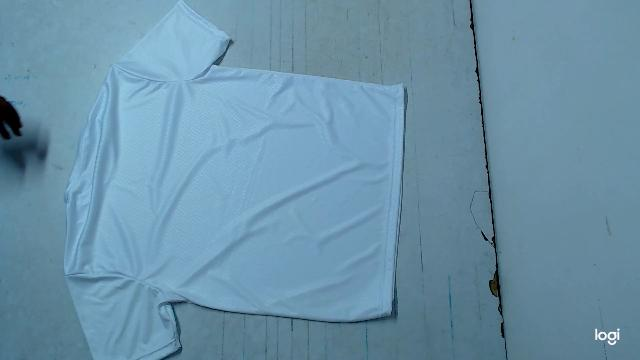new-garment: (63, 1, 405, 360)
